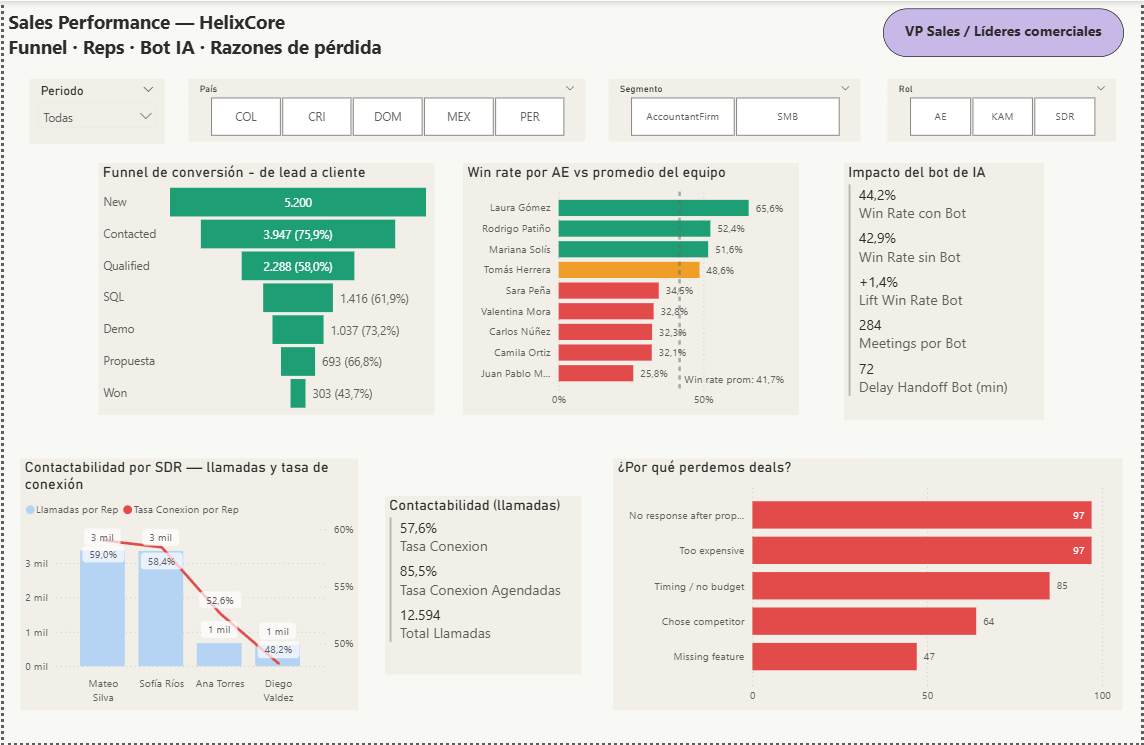

This screenshot's page, from the dashboard's own definition file:
{"tool":"powerbi","page":{"name":"Sales performance","canvas":[1300,848],"ordinal":1},"visuals":[{"type":"textbox","box":[0,2.6,496,70.9],"z":0},{"type":"slicer","title":"Periodo","fields":{"Values":["Calendario.YearMonth"]},"box":[28.6,89.9,154.9,74.1],"z":0,"group":"g1"},{"type":"multiRowCard","title":"Impacto del bot de IA","fields":{"Values":["_Medidas.Win Rate con Bot","_Medidas.Win Rate sin Bot","_Medidas.Lift Win Rate Bot","_Medidas.Meetings por Bot","_Medidas.Delay Handoff Bot (min)"]},"box":[961.1,185.9,228.8,294.1],"z":0,"group":"g2"},{"type":"textbox","box":[1005.2,7.9,275.6,55.1],"z":1000},{"type":"multiRowCard","title":"Contactabilidad (llamadas)","fields":{"Values":["_Medidas.Tasa Conexion","_Medidas.Tasa Conexion Agendadas","_Medidas.Total Llamadas"]},"box":[435.1,565.8,224.7,204.3],"z":1000,"group":"g3"},{"type":"group","id":"g1","title":"Grupo 1","box":[28.6,89.9,1241.9,73.5],"z":2000},{"type":"slicer","title":"Periodo","fields":{"Values":["leads.country"]},"box":[210.5,90.4,453.4,71.5],"z":2000,"group":"g1"},{"type":"group","id":"g2","title":"Grupo 2","box":[108.3,185.9,1082.6,294.1],"z":3000},{"type":"clusteredBarChart","title":"¿Por qué perdemos deals?","fields":{"Category":["deals.lost_reason"],"Y":["CountNonNull(deals.deal_id)"]},"box":[696.5,522.9,582.1,288],"z":3000,"group":"g3"},{"type":"slicer","title":"Periodo","fields":{"Values":["leads.segment"]},"box":[690.5,90.4,288,71.5],"z":4000,"group":"g1"},{"type":"group","id":"g3","title":"Grupo 3","box":[18.4,522.9,1260.3,288],"z":4000},{"type":"slicer","title":"Periodo","fields":{"Values":["reps.role"]},"box":[1009.1,90.4,261.4,71.5],"z":5000,"group":"g1"},{"type":"funnel","title":"Funnel de conversión - de lead a cliente","fields":{"Y":["_Medidas.Funnel New","_Medidas.Funnel Contacted","_Medidas.Funnel Qualified","_Medidas.Leads SQL","_Medidas.Leads Demo","_Medidas.Leads Propuesta","_Medidas.Deals Won"]},"box":[108.3,185.9,384,288],"z":8000,"group":"g2"},{"type":"clusteredBarChart","title":"Win rate por AE vs promedio del equipo","fields":{"Y":["_Medidas.Win Rate por Rep"],"Category":["reps.rep_name"]},"box":[524.3,185.9,384,288],"z":9000,"group":"g2"},{"type":"lineClusteredColumnComboChart","title":"Contactabilidad por SDR — llamadas y tasa de conexión","fields":{"Category":["reps.rep_name"],"Y":["_Medidas.Llamadas por Rep"],"Y2":["_Medidas.Tasa Conexion por Rep"]},"box":[18.4,522.9,386,288],"z":11000,"group":"g3"}]}

Visuals, with their boxes in screenshot pixels (x1, y1, x2, y2), scaled from the page's 1300x848 canvas onto the 1144x745 screenshot:
textbox: 0 2 436 65
"Periodo" slicer: 25 79 161 144
"Impacto del bot de IA" multiRowCard: 846 163 1047 422
textbox: 885 7 1127 55
"Contactabilidad (llamadas)" multiRowCard: 383 497 581 677
"Grupo 1" group: 25 79 1118 144
"Periodo" slicer: 185 79 584 142
"Grupo 2" group: 95 163 1048 422
"¿Por qué perdemos deals?" clusteredBarChart: 613 459 1125 712
"Periodo" slicer: 608 79 861 142
"Grupo 3" group: 16 459 1125 712
"Periodo" slicer: 888 79 1118 142
"Funnel de conversión - de lead a cliente" funnel: 95 163 433 416
"Win rate por AE vs promedio del equipo" clusteredBarChart: 461 163 799 416
"Contactabilidad por SDR — llamadas y tasa de conexión" lineClusteredColumnComboChart: 16 459 356 712
